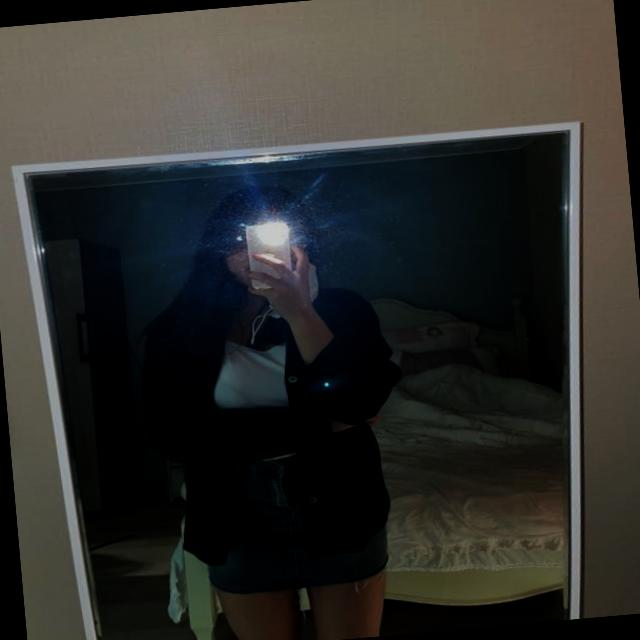cardigan: (135, 270, 414, 564)
skirt: (184, 444, 402, 596)
